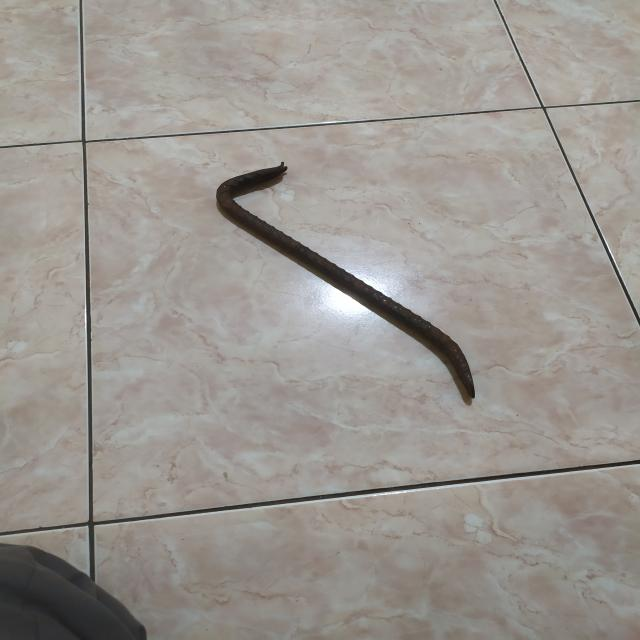Linggis: (219, 163, 481, 400)
